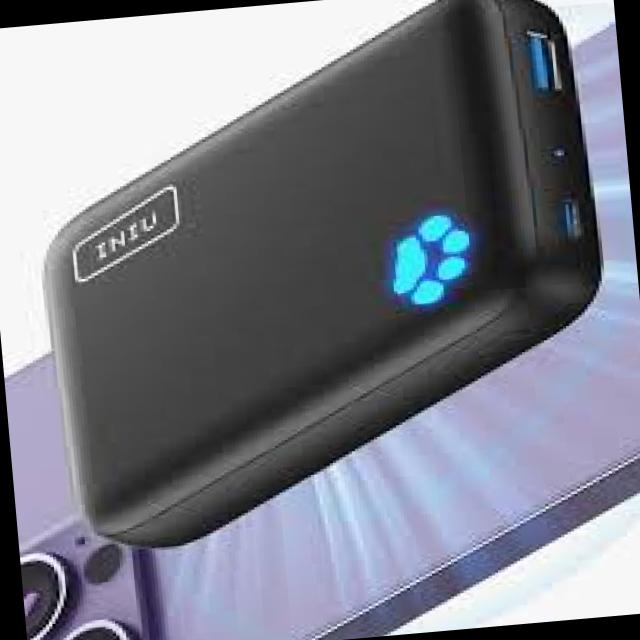power_bank: (21, 0, 633, 550)
